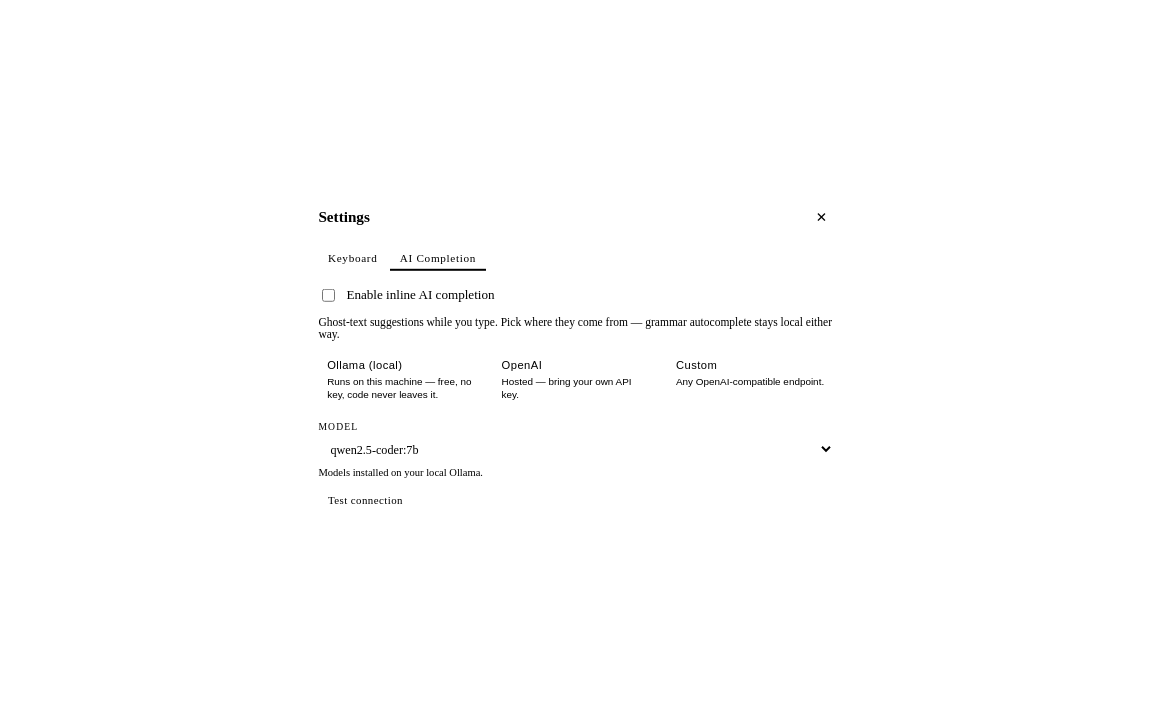
Test: Settings › Test connection fills the OpenAI dropdown with chat models only and counts them
This screenshot has width=1152, height=720.
Step 1. Click the radio button with test id "llm-provider-openai" → (576, 380), box [493,351,659,410]
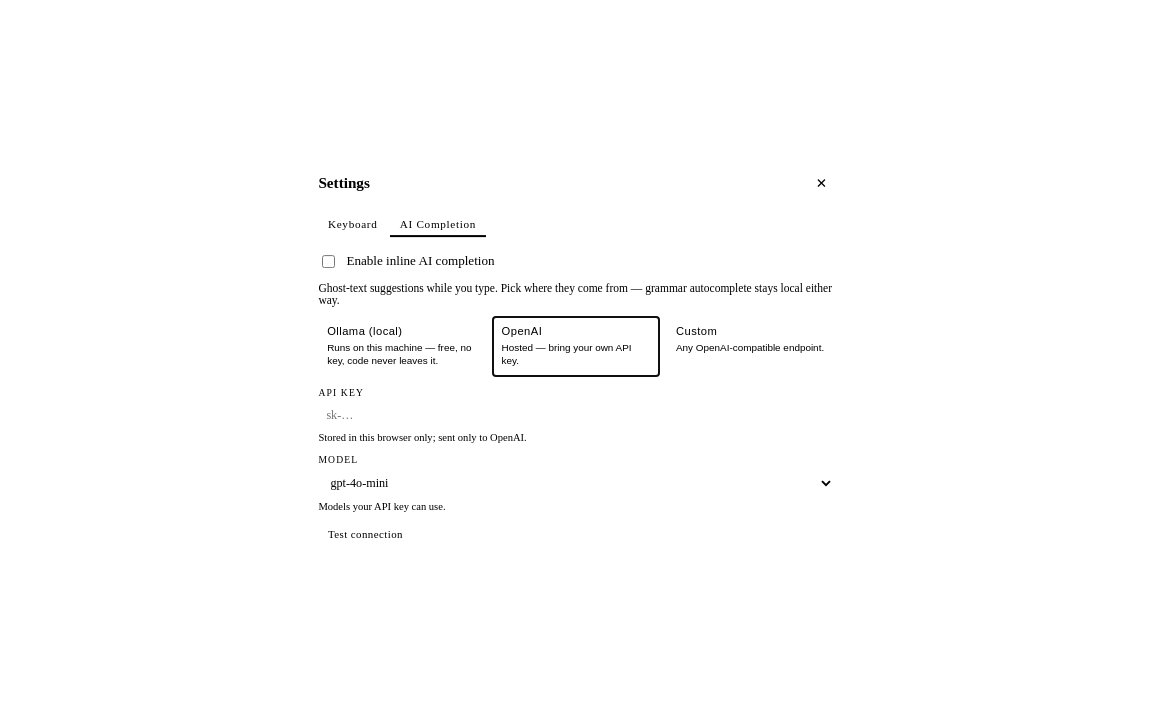
Step 2. Click the button with test id "llm-test" → (365, 534), box [318,523,412,544]
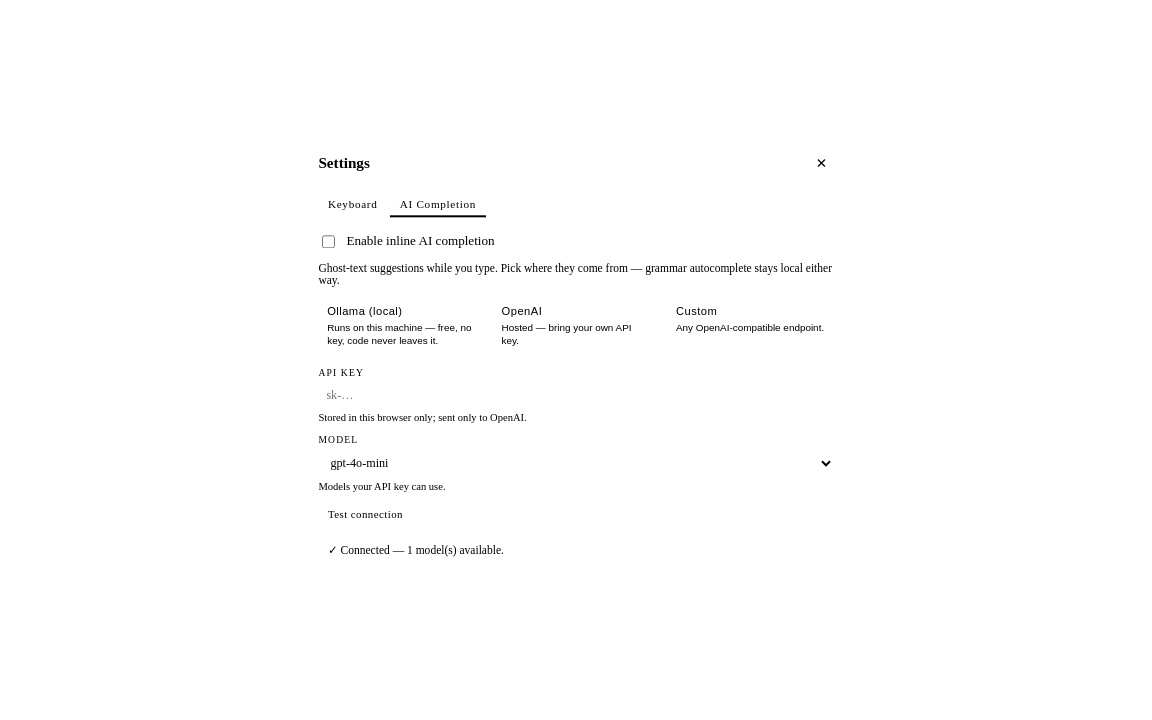
Result: the element with test id "llm-test-result" shows "Connected — 1 model(s) available." at [328,544,504,556]
